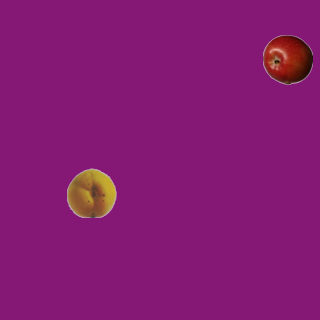Apple Braeburn: (262, 34, 312, 84)
Peach 2: (66, 167, 116, 217)
